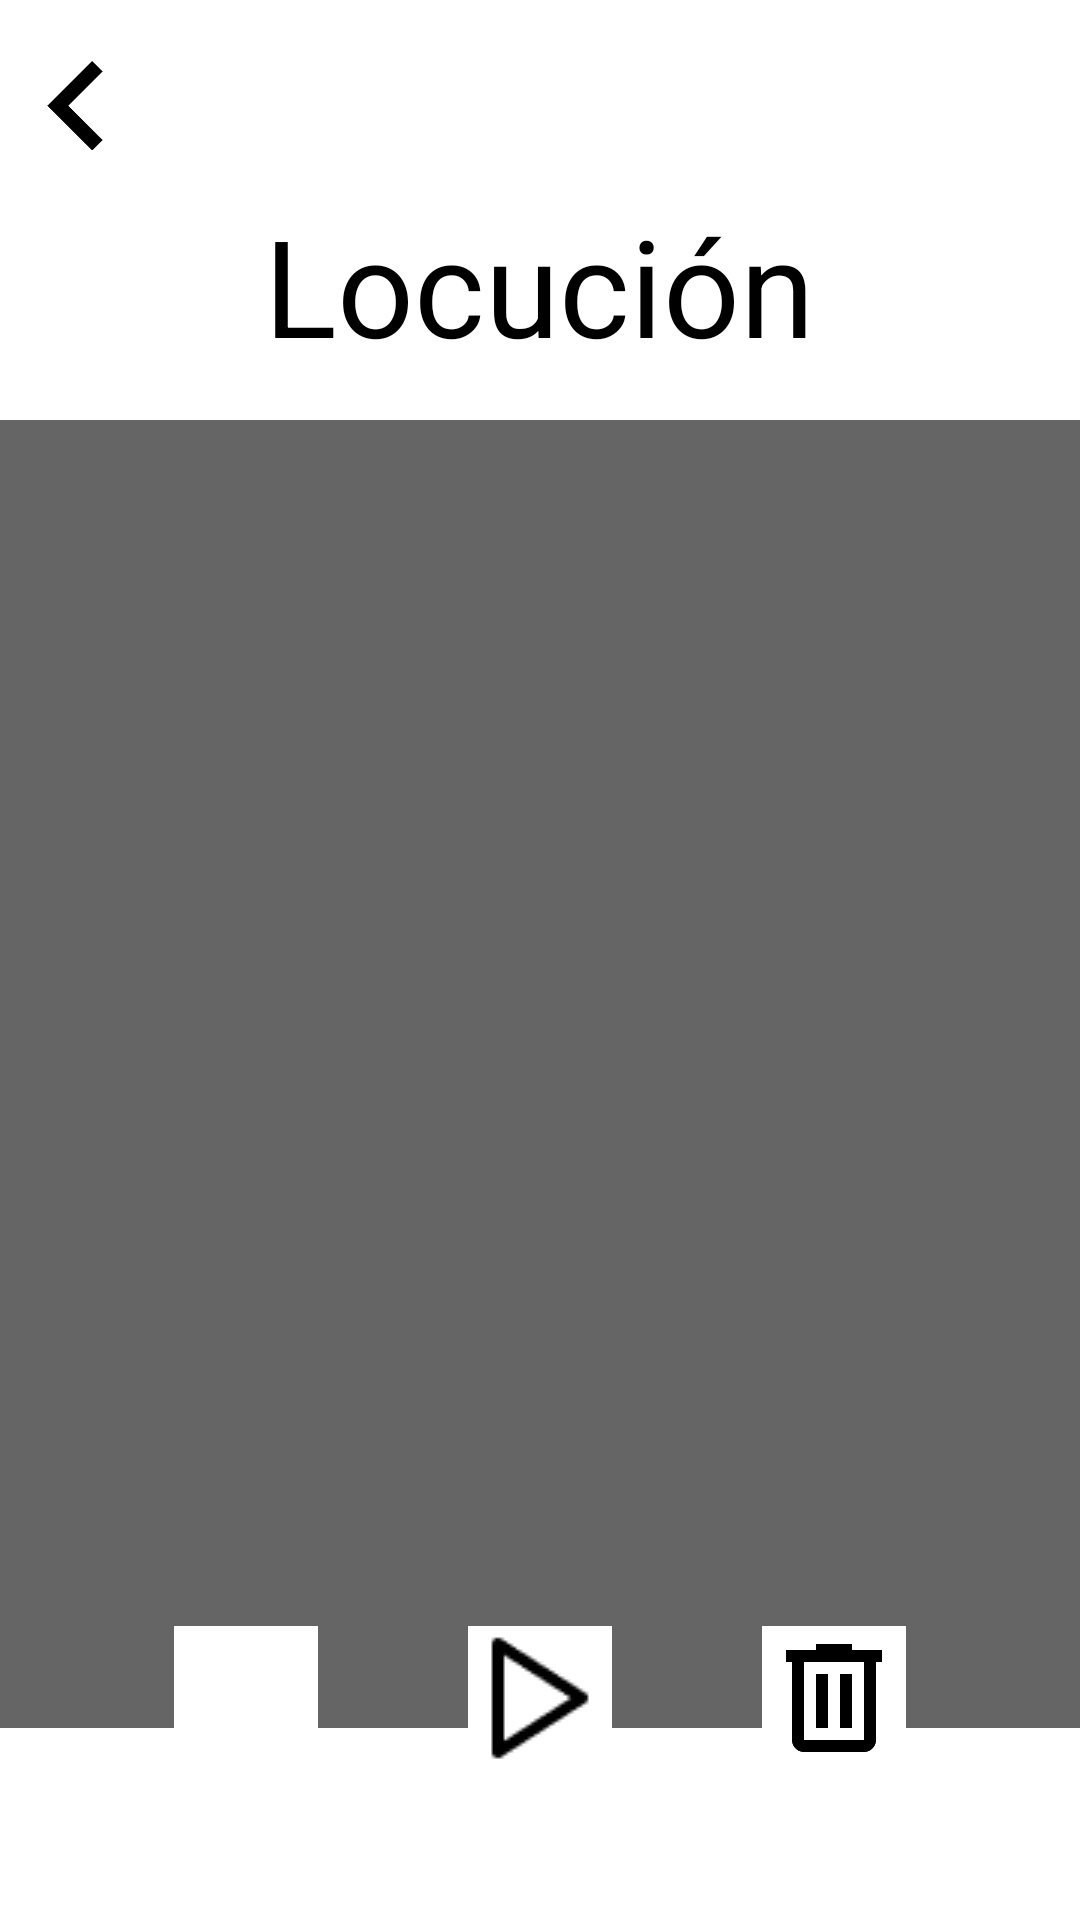

Icon click points for this 1080px x 1920px phone screenshot, format [x,y]:
eliminar: [834,1698]
Reproducir: [540,1698]
retroceder: [75,105]
